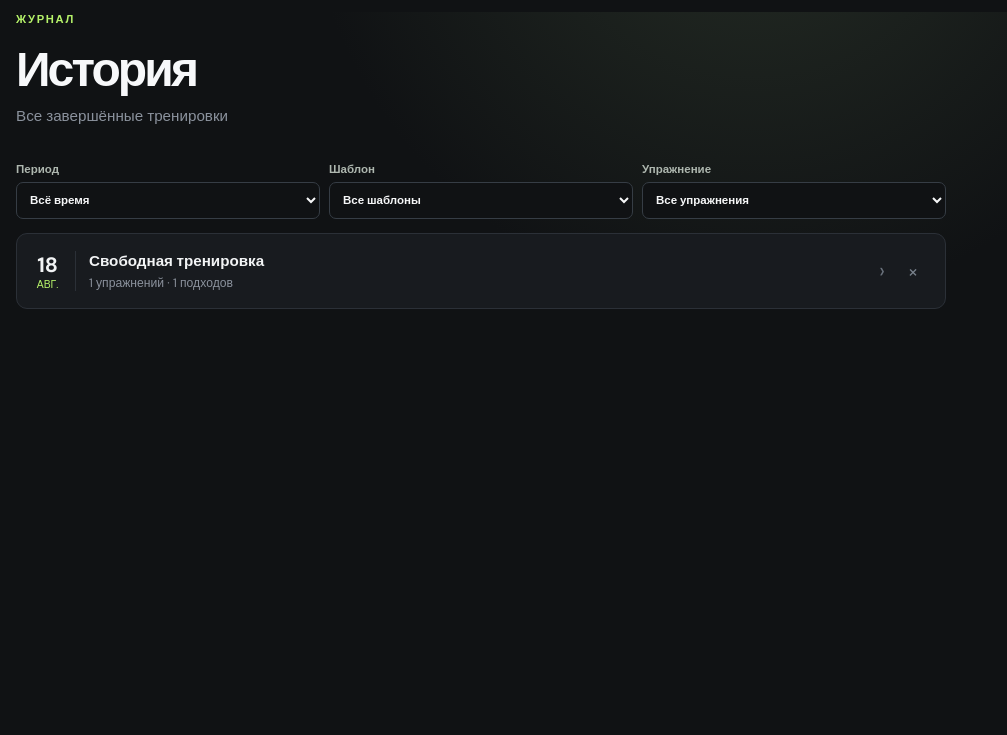
Test: HistoryPage › opens and saves edits for a completed workout
The image size is (1007, 735).
Click the button with aria-label "Открыть тренировку Свободная тренировка": (55, 271) [34,251,885,291]
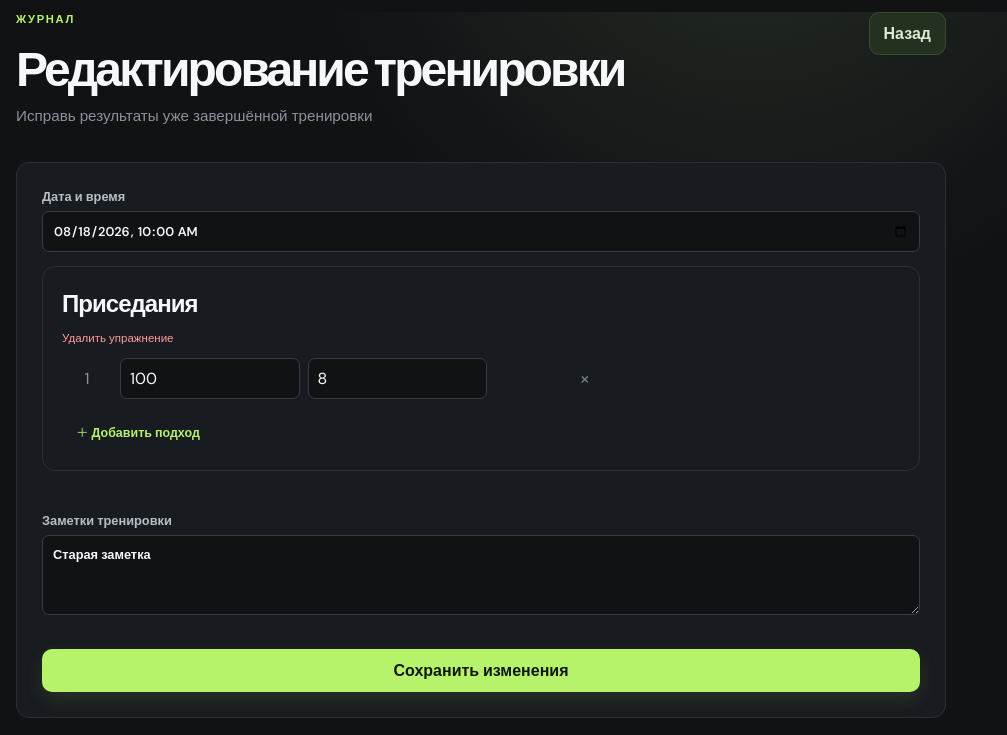
Replace the text in the text box labelled "Заметки тренировки" with "Обновлённая заметка": (481, 575) [42,535,920,615]
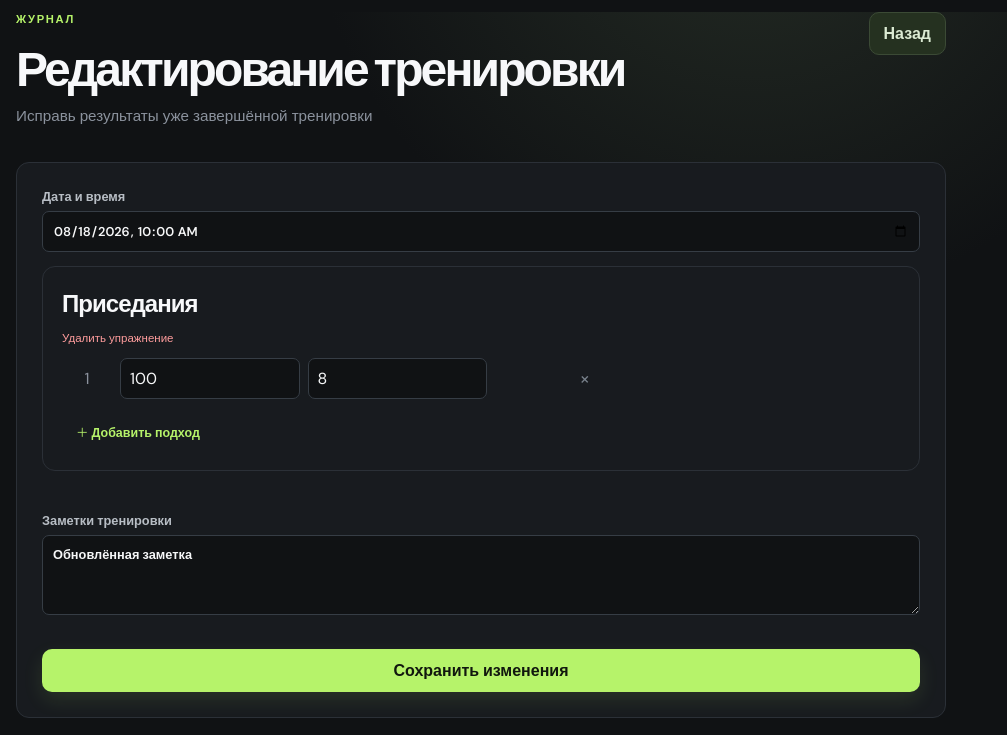
Replace the text in the number field named "Вес подхода 1 для Приседания" with "105": (210, 378) [120,358,300,399]
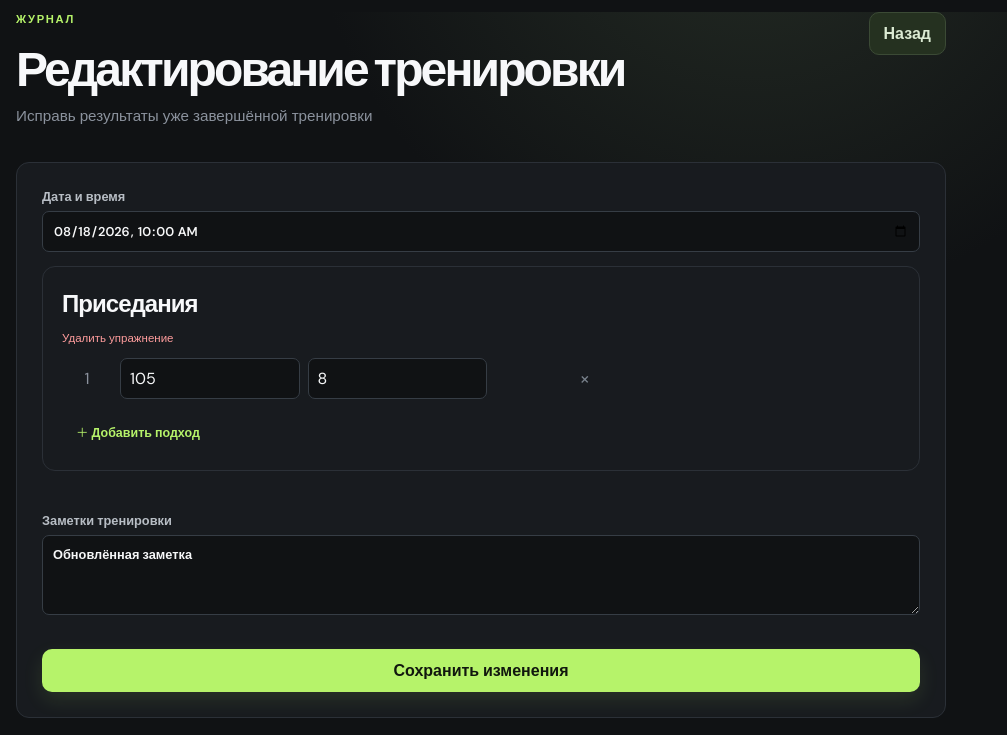
Click the button "Сохранить изменения": (481, 670) [42,649,920,692]
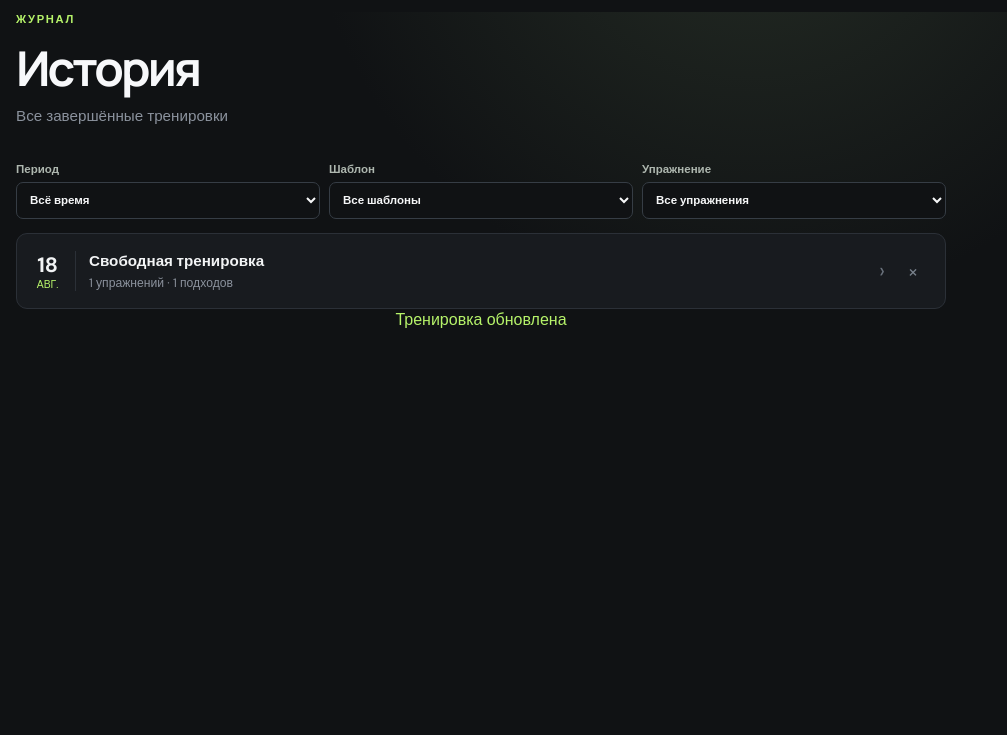
Now the text "Тренировка обновлена" is shown, box [395,309,567,330]
